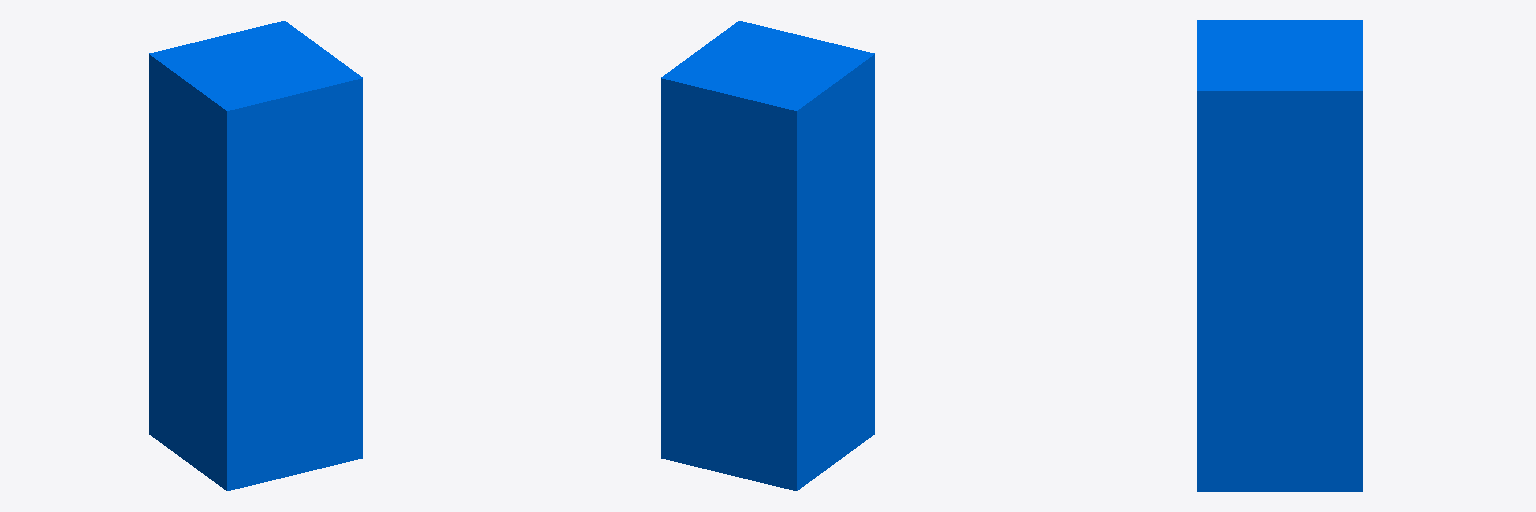
URDF robot description (rectangle):
<?xml version="1.0" ?>

<robot name="rectangle">
    <material name="rectangle">
        <color rgba="0 0.5 1 0.5"/>
    </material>
    <link name="rectangle">
        <contact>
            <lateral_friction value="1.0"/>
            <rolling_friction value="0.0"/>
            <inertia_scaling value="3.0"/>
            <contact_cfm value="0.0"/>
            <contact_erp value="1.0"/>
        </contact>
        <inertial>
            <origin rpy="0 0 0" xyz="0 0 0"/>
            <mass value="100"/>
            <inertia ixx="0.1" ixy="0" ixz="0" iyy="0.1" iyz="0" izz="0.1"/>
        </inertial>
        <visual>
            <origin rpy="0 0 0" xyz="0 0 0"/>
            <geometry>
                <box size="0.03 0.03 0.08"/>
            </geometry>
            <material name="rectangle"/>
        </visual>
        <collision>
            <origin rpy="0 0 0" xyz="0 0 0"/>
            <geometry>
                <box size="0.03 0.03 0.08"/>
            </geometry>
        </collision>
    </link>
    <joint name="grasp_target_joint" type="fixed">
        <origin rpy="0 0 0" xyz="0 0 0.03"/>
        <parent link="rectangle"/>
        <child link="grasp_target"/>
    </joint>
    <link name="grasp_target">
        <inertial>
            <origin rpy="0 0 0" xyz="0 0 0"/>
            <mass value="0"/>
            <inertia ixx="0.1" ixy="0" ixz="0" iyy="0.1" iyz="0" izz="0.1"/>
        </inertial>
        <visual>
            <origin rpy="0 0 0" xyz="0 0 0"/>
            <geometry>
                <sphere radius="0.0001"/>
            </geometry>
            <material name="rectangle"/>
        </visual>
    </link>
</robot>

--- What the picture shows (computed from the rendered views, not written in the file) ---
Views: 3 orthographic renders of the robot side by side, from view 1: azimuth 30°, elevation 25°; view 2: azimuth 150°, elevation 25°; view 3: azimuth 270°, elevation 25°.
Robot: rectangle — 2 links, 1 joints (1 fixed); root link rectangle; default pose: all joints at 0.
Links seen in each view (by area): view 1: rectangle; view 2: rectangle; view 3: rectangle.
Boxes of the visible links, box(x1,y1,x2,y2) form: rectangle: box(149, 21, 362, 490); rectangle: box(661, 21, 874, 490); rectangle: box(1197, 20, 1362, 491).
Size in the robot's own frame: 0.03 by 0.03 by 0.08 metres.
Geometry: primitives only (box / cylinder / sphere), no mesh files.